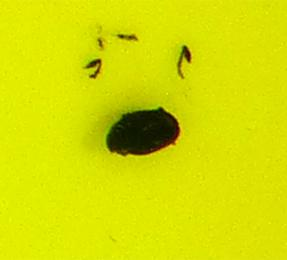Coleoptera: (100, 100, 187, 160)
